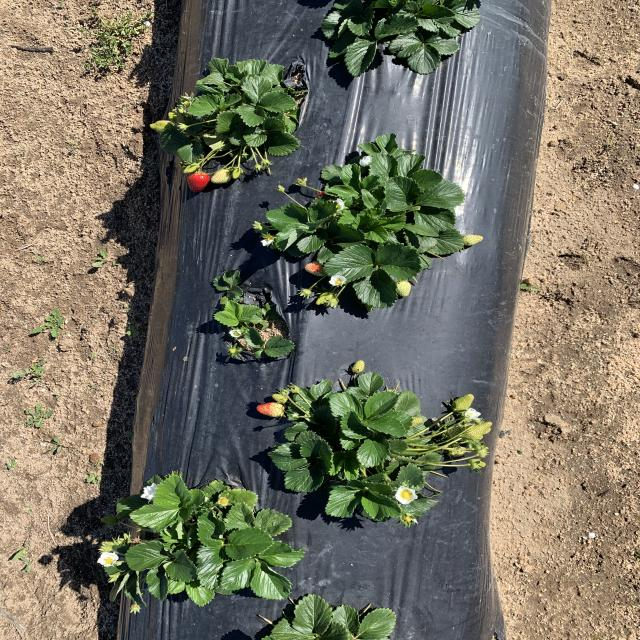unripe: (186, 171, 212, 193), (315, 191, 336, 206)
